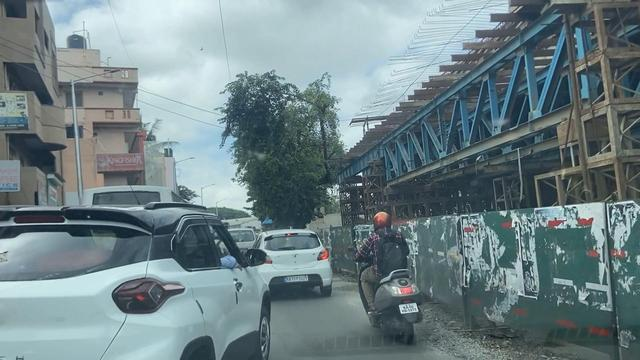LMV: (355, 215, 422, 345), (269, 233, 332, 302)
